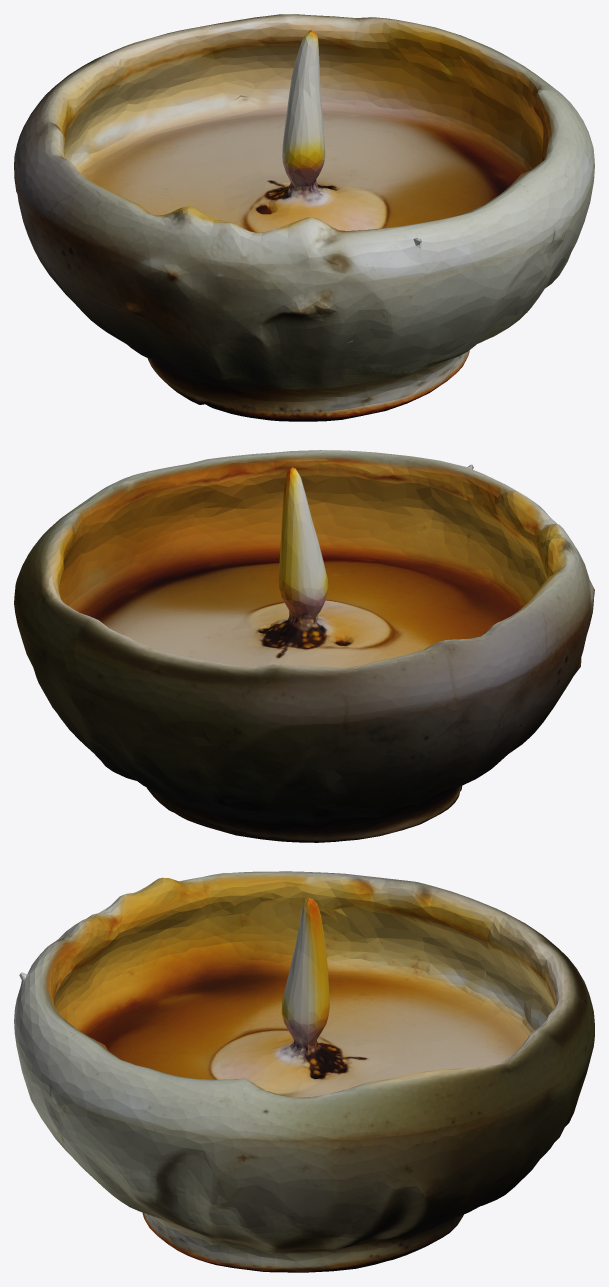
File: ceramic-votive-holder-used-rustic-worn.jpeg.glb
The picture shows the model from 3 angles, top to bottom: view 1: azimuth 30°, elevation 25°; view 2: azimuth 150°, elevation 25°; view 3: azimuth 270°, elevation 25°; orthographic projection.
Parts seen in each view (by area): view 1: world; view 2: world; view 3: world.
Boxes of the visible parts, left/top/right/bottom form: world: left=14, top=14, right=594, bottom=421; world: left=14, top=450, right=594, bottom=842; world: left=14, top=871, right=594, bottom=1272.
Size of the model in its own units: 0.9995 by 0.6138 by 0.9995.
1 material, 1 textured.
